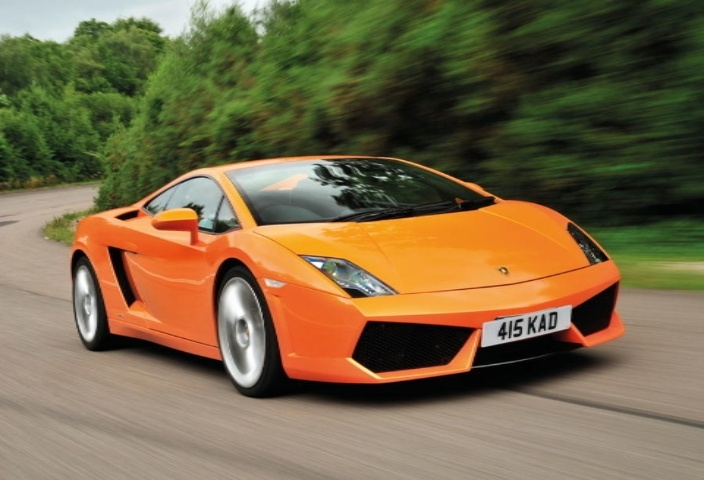car: (44, 142, 634, 418)
